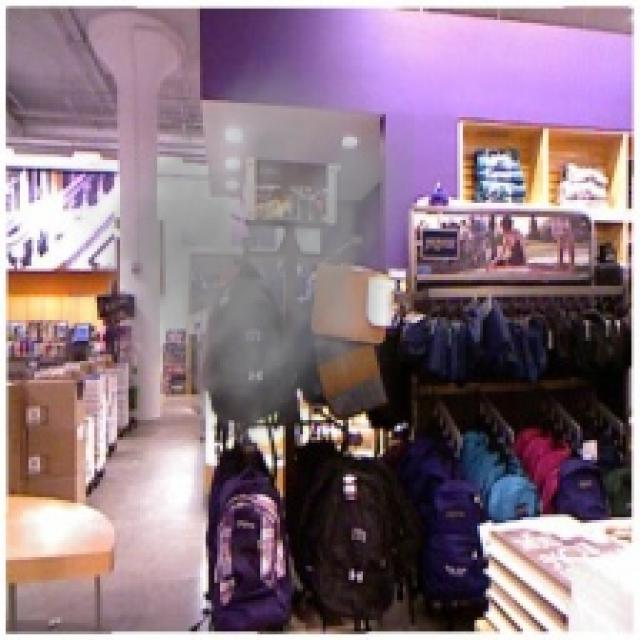smoke: (66, 40, 414, 463)
